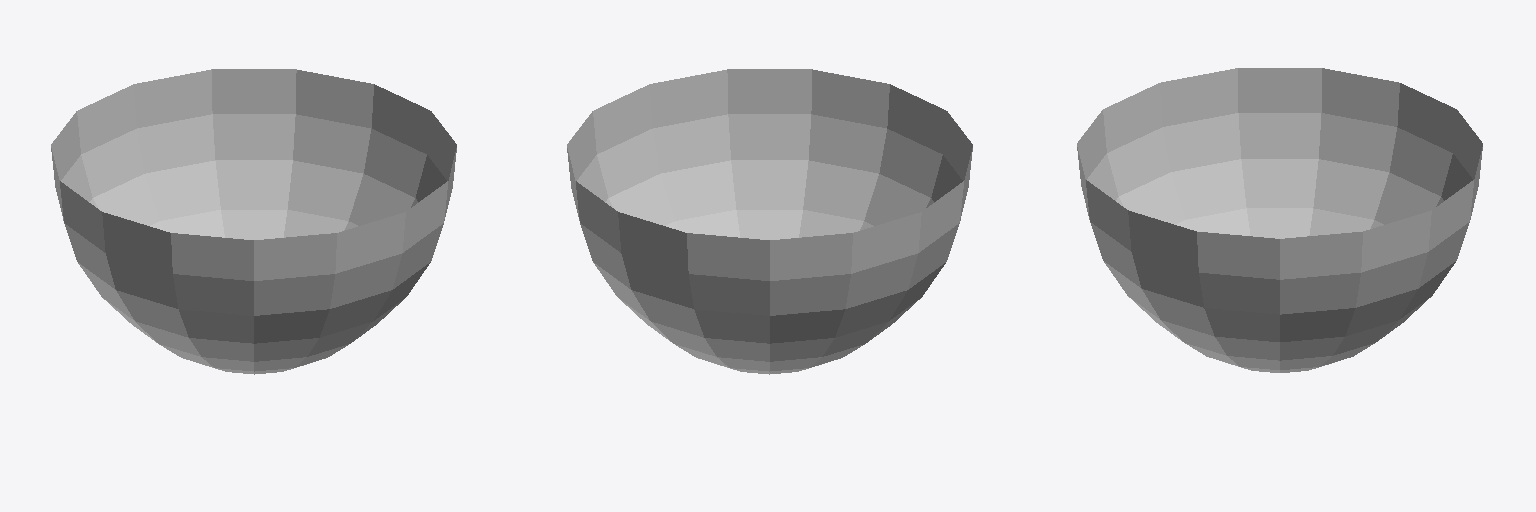
File: halfSphere.obj
The picture shows the model from 3 angles: view 1: azimuth 30°, elevation 25°; view 2: azimuth 150°, elevation 25°; view 3: azimuth 270°, elevation 25°; orthographic projection.
Parts seen in each view (by area): view 1: pSphere1; view 2: pSphere1; view 3: pSphere1.
Boxes of the visible parts, <box> form: pSphere1: <box>51,69,456,374</box>; pSphere1: <box>567,69,972,374</box>; pSphere1: <box>1077,68,1482,372</box>.
Bounding box in the file's own units: 2.41 × 1.35 × 2.43.